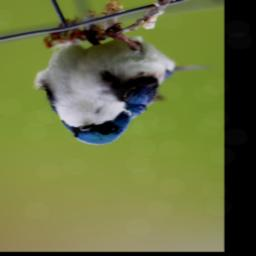Swallow: (32, 22, 215, 146)
